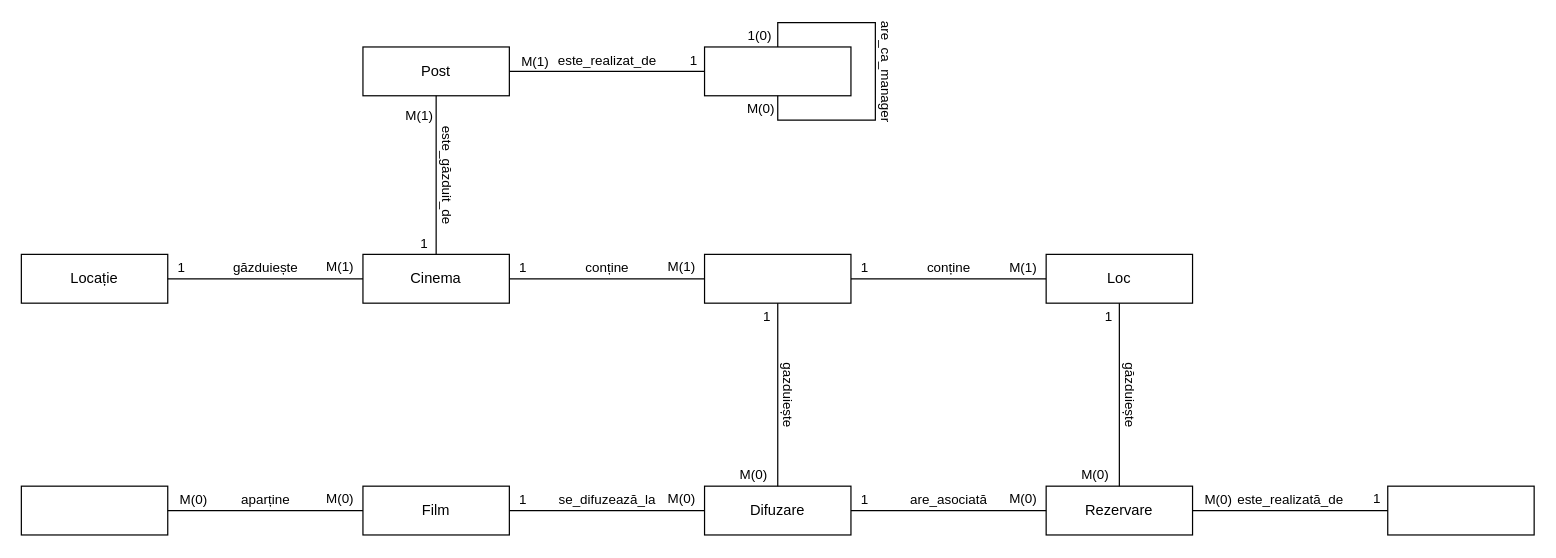
Some shapes in this 1556 by 558 pixel diagram are drawn without their labels. Each missing label, with the centre of its shape:
"Angajat" belongs at point (777, 71).
"Categorie" belongs at point (94, 510).
"Client" belongs at point (1460, 510).
"Sala" belongs at point (777, 278).
